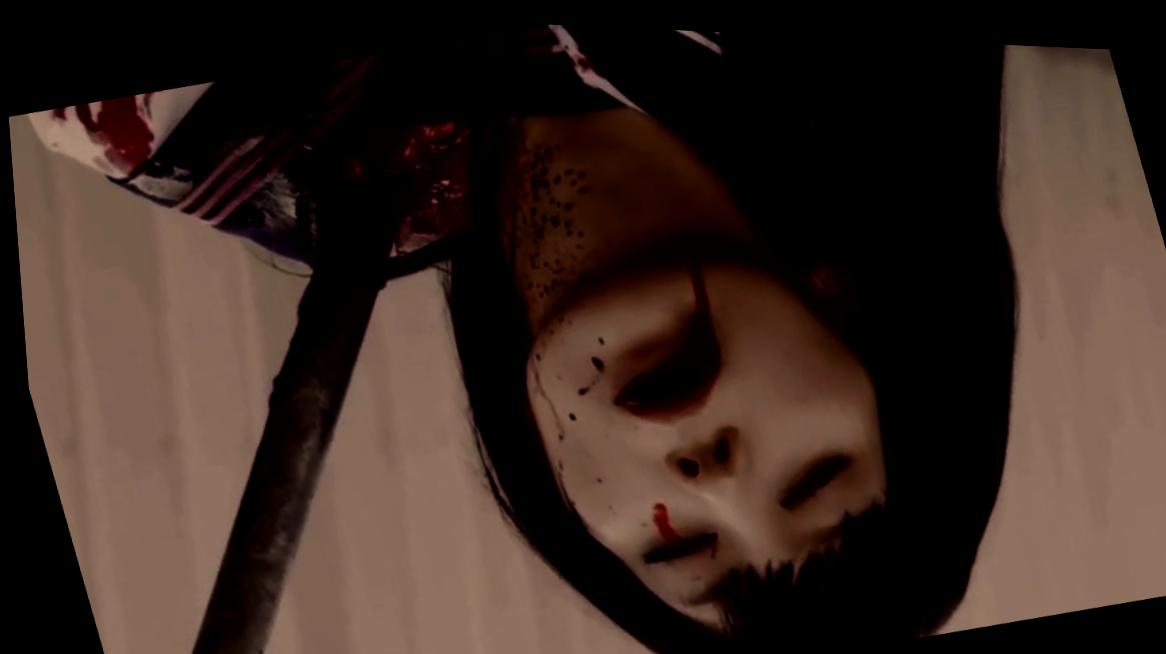Fire: (42, 19, 764, 600)
